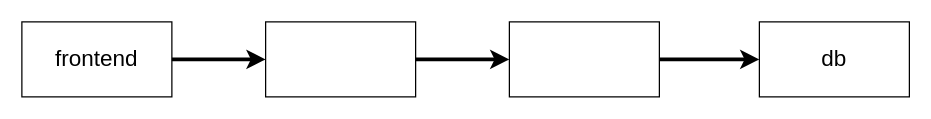
This 931x119 diagram has some shape labels left out. The shapes that lost their labels are listed below. From the top down, each one's centre as x and y in pixels, then its label:
the point at 340,59: s1
the point at 583,59: s2
